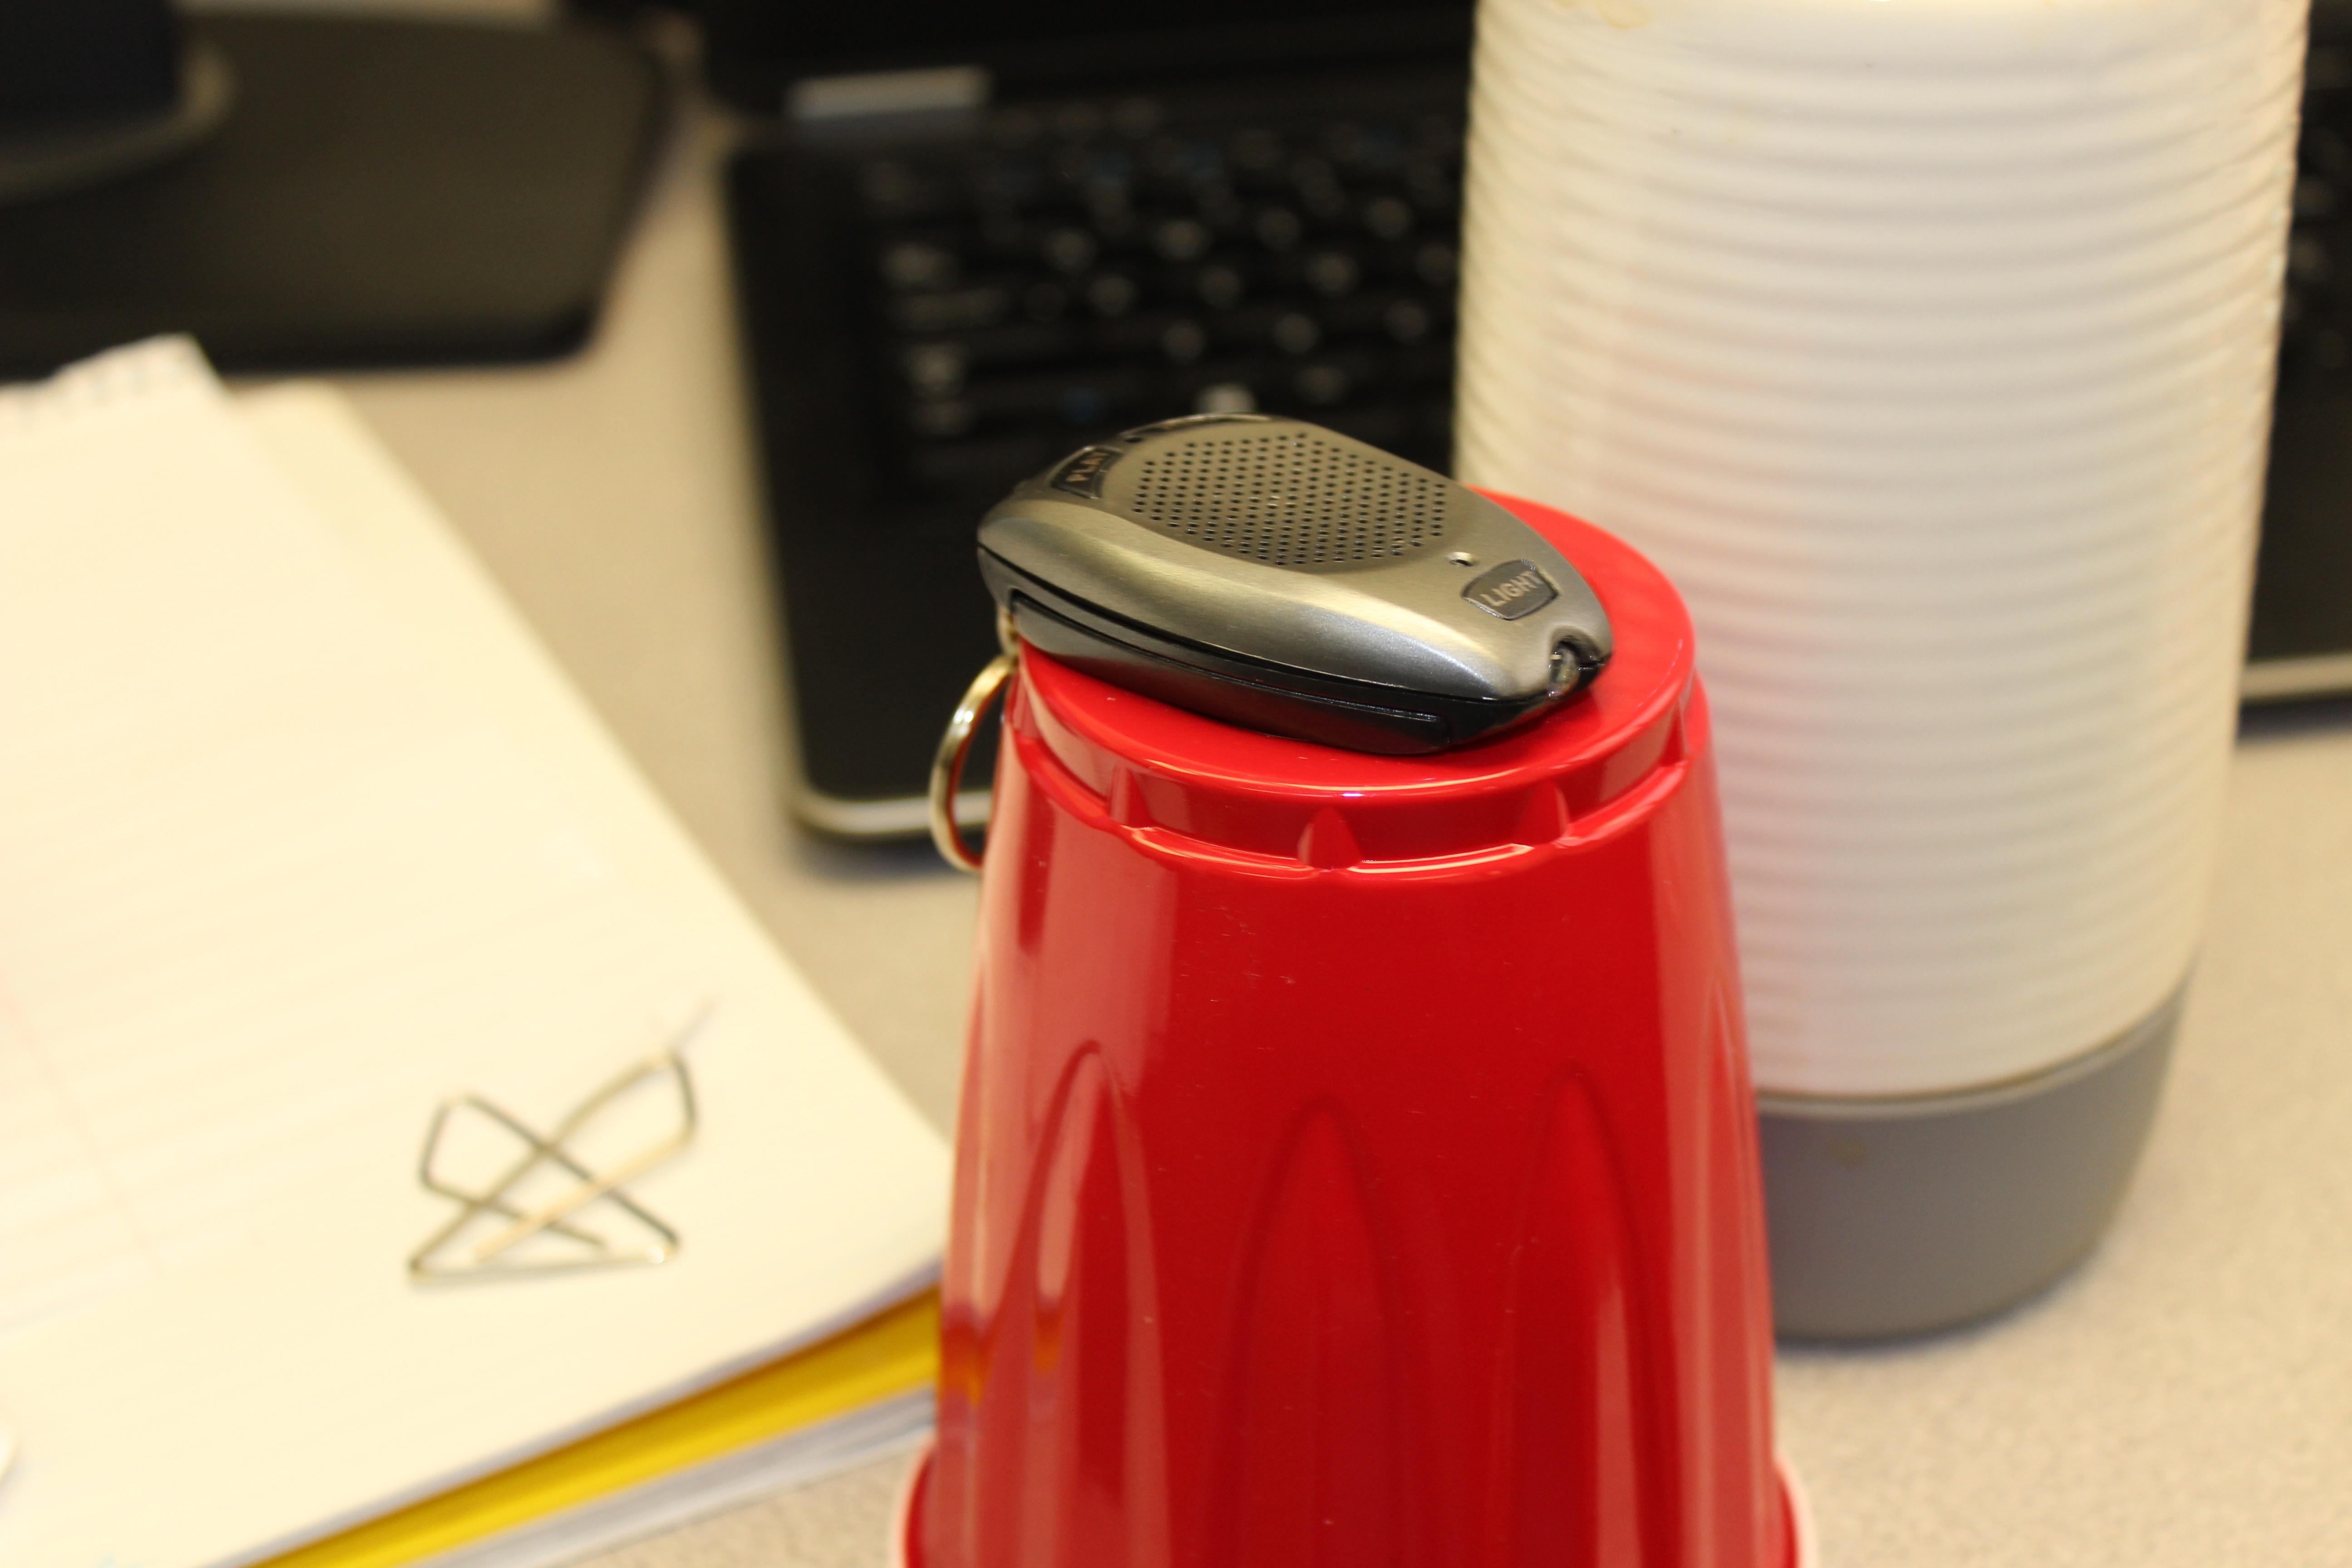voiceRecorder: (898, 364, 1662, 886)
